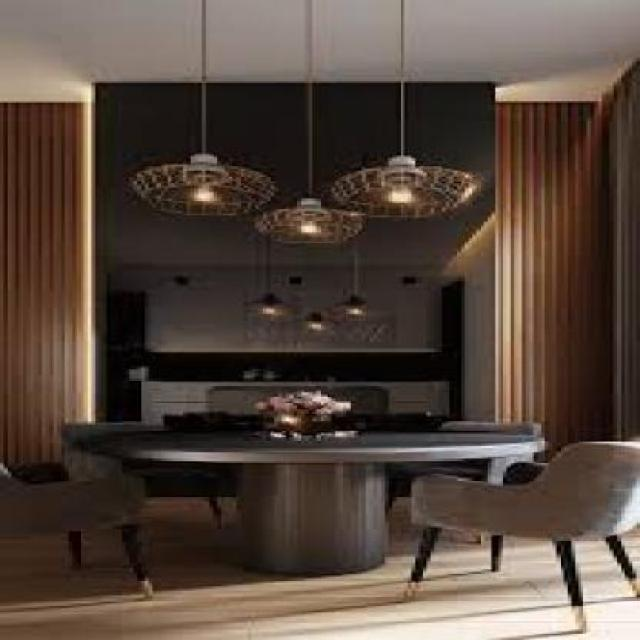tables: (68, 423, 546, 579)
